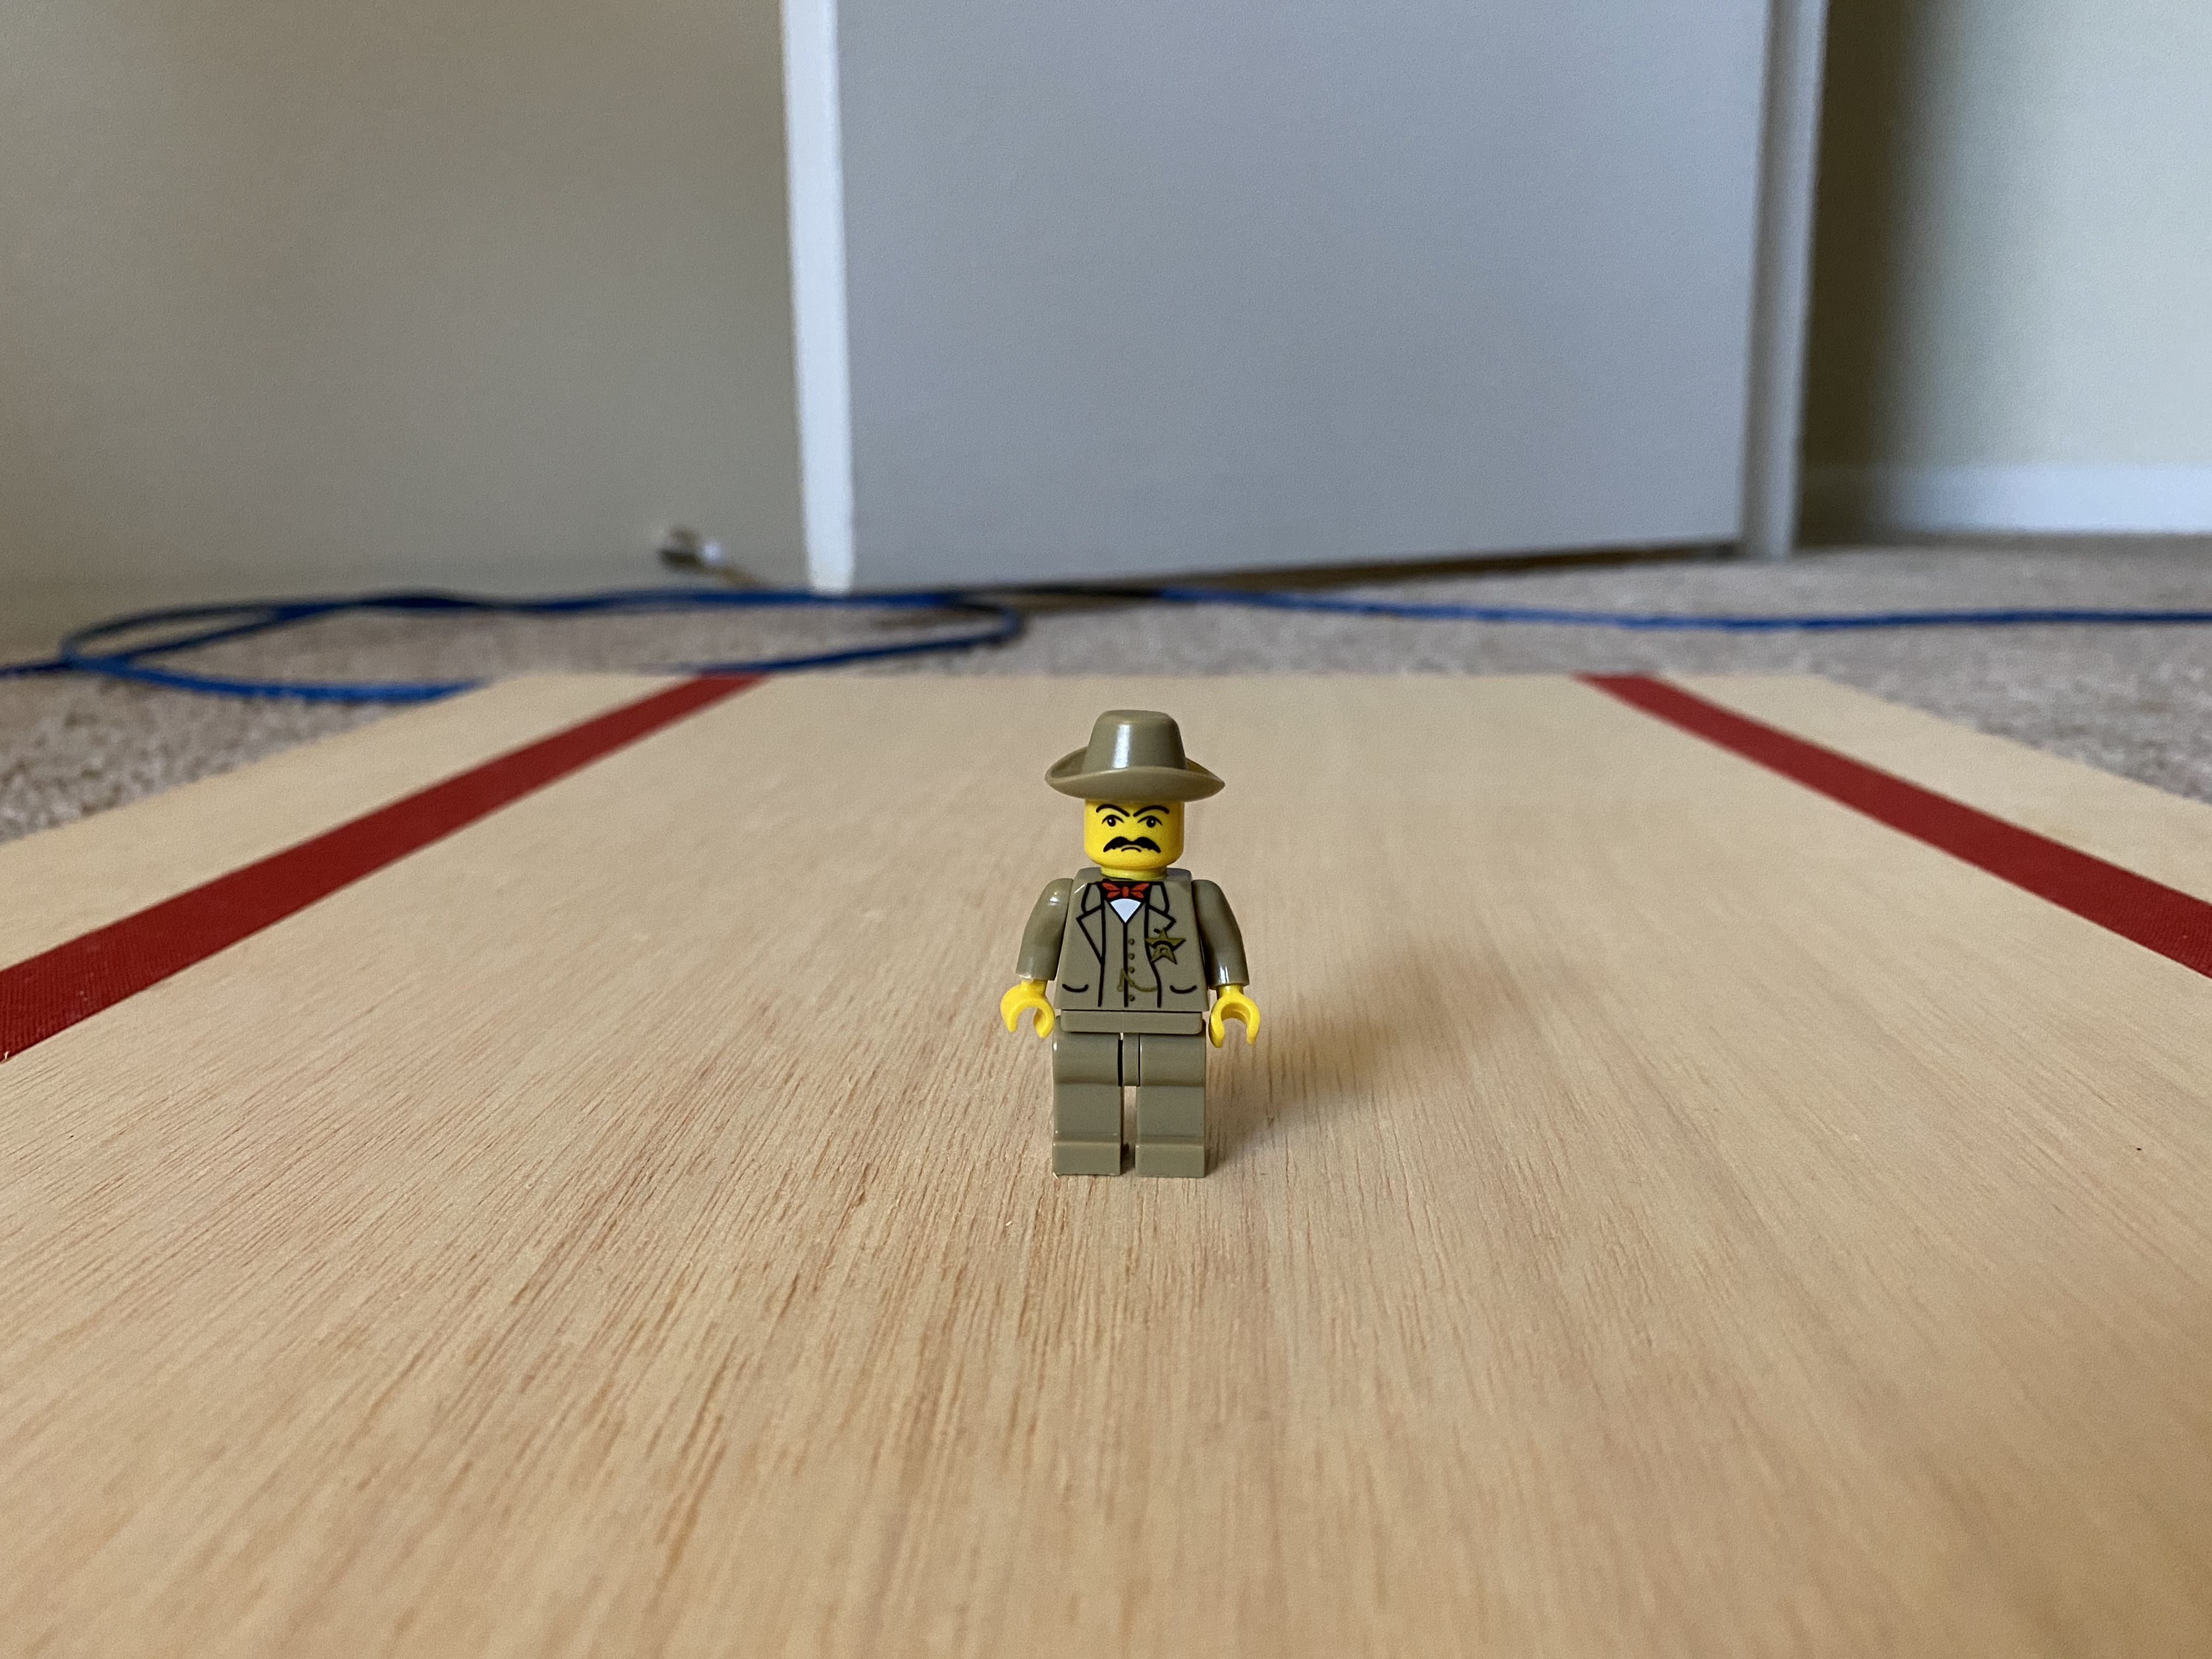Person: (983, 706, 1316, 1209)
